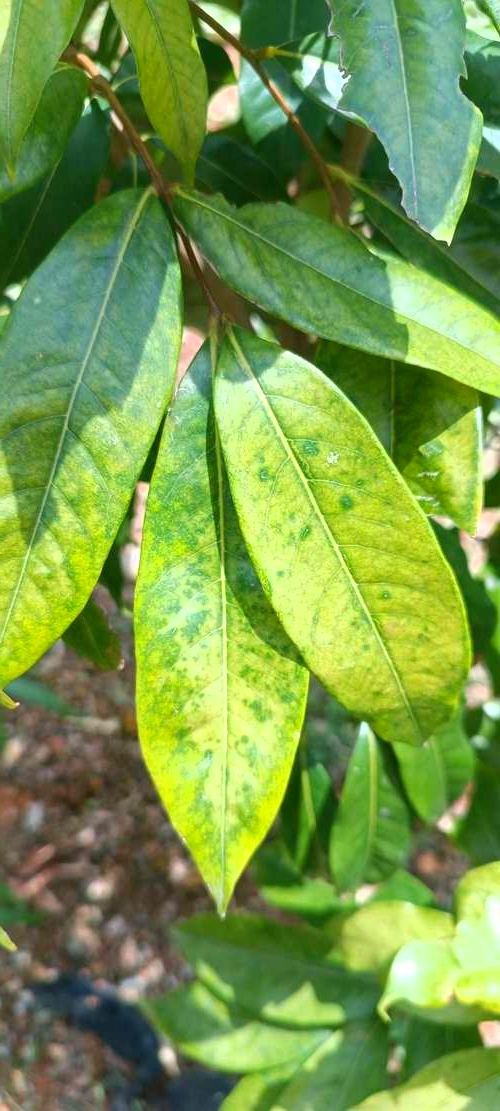Gall_Mite: (123, 409, 383, 813)
